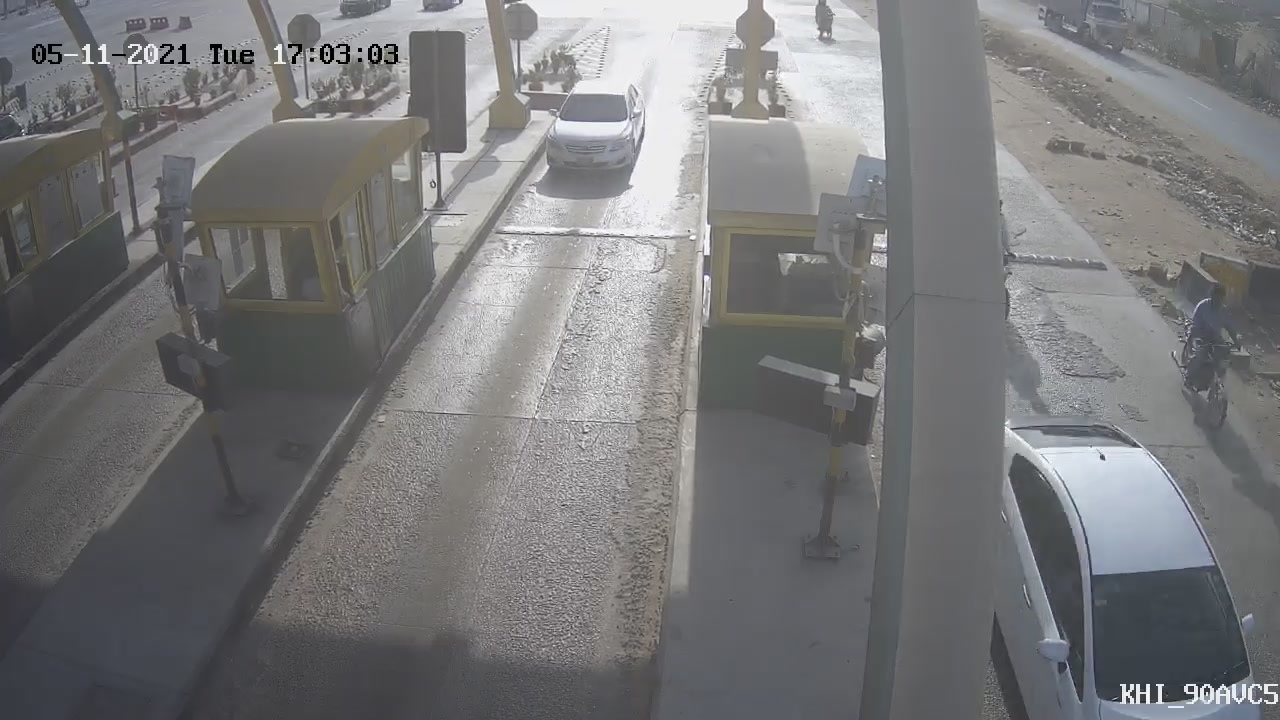F1: (526, 62, 657, 195)
